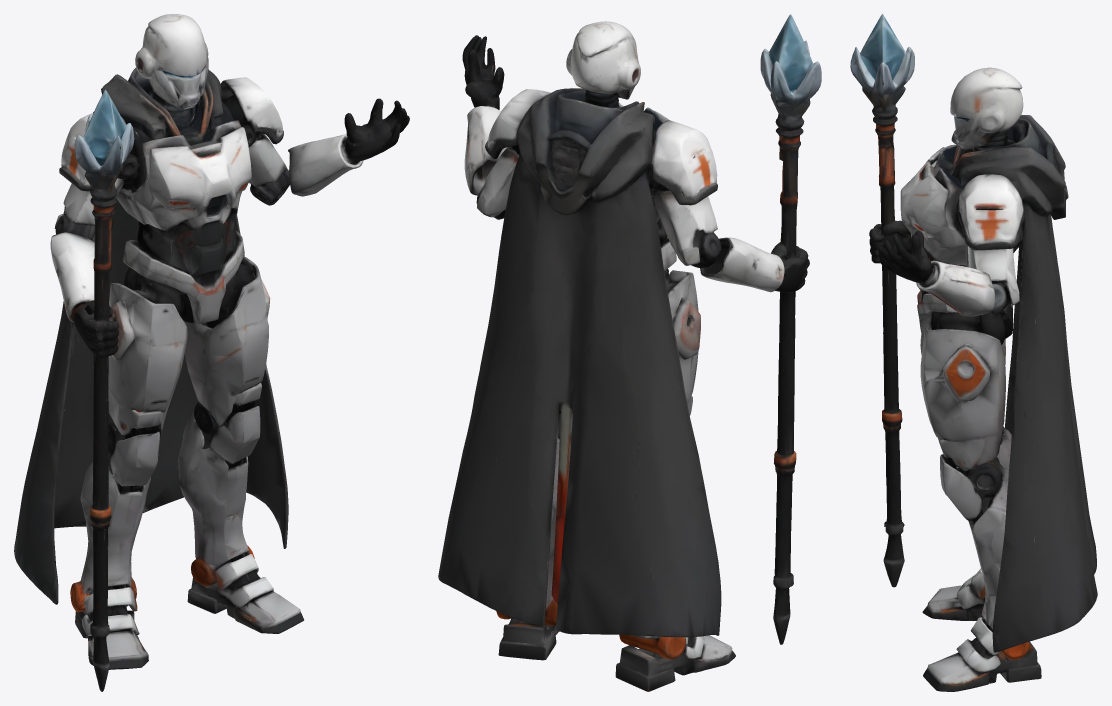
The model's file is detail_6.glb.
3 views of the same model, side by side, from view 1: azimuth 30°, elevation 25°; view 2: azimuth 150°, elevation 25°; view 3: azimuth 270°, elevation 25° (orthographic). The views are drawn at different scales.
Bounding box in the file's own units: 0.5782 × 0.9977 × 0.3893.
Materials: 1 (1 with a texture image).
